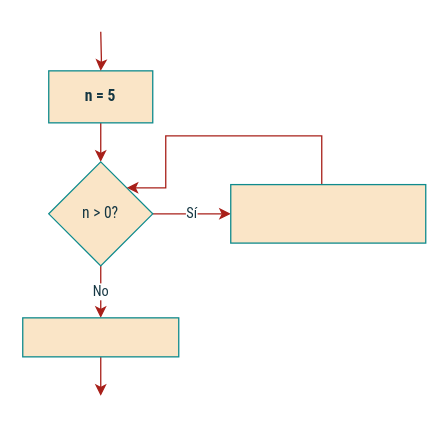
Image size: 448x429. Some labels were removed from this diagram. Each missing label, with the box of its shape:
print("Despegue!"): (21, 317, 179, 357)
print(f"t-menos {n}") n = n - 1: (229, 183, 426, 243)
